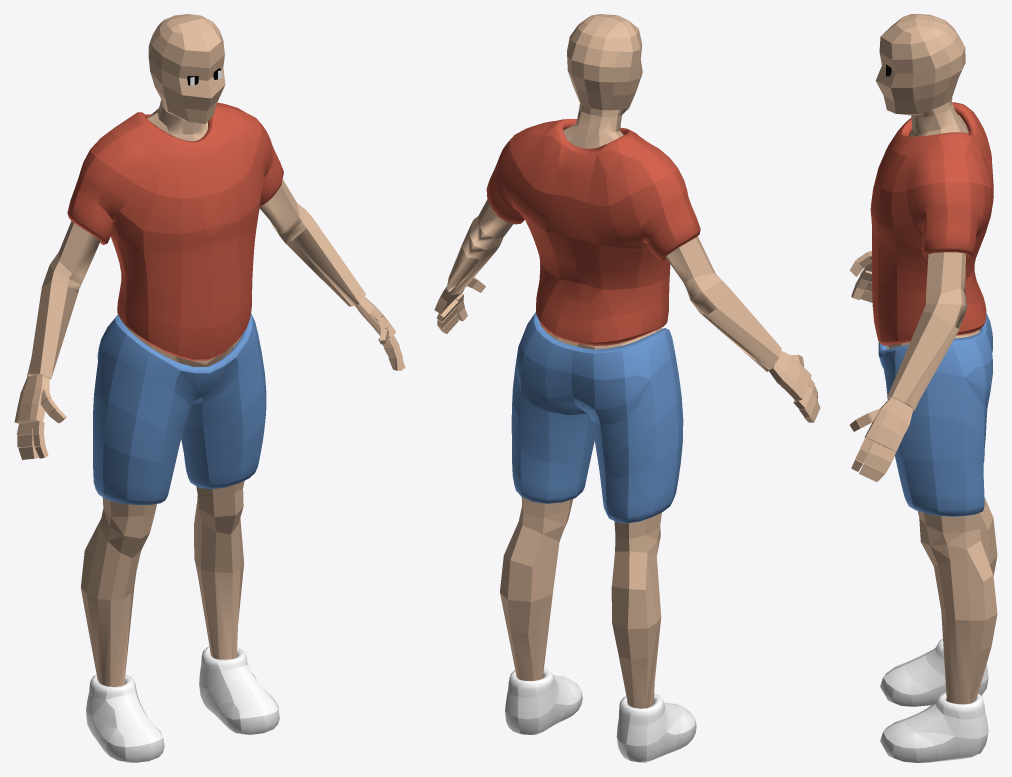
The model's file is Karakter Test  1.fbx.
3 renders of one model, left to right at view 1: azimuth 30°, elevation 25°; view 2: azimuth 150°, elevation 25°; view 3: azimuth 270°, elevation 25°, orthographic.
Visible parts, largest first — view 1: Plane.007, Plane.001, Plane.002, Plane.003; view 2: Plane.007, Plane.001, Plane.002, Plane.003; view 3: Plane.007, Plane.001, Plane.002, Plane.003.
Part boxes in pixels (x1=…): Plane.007: x1=14, y1=14, x2=405, y2=686; Plane.001: x1=67, y1=102, x2=283, y2=360; Plane.002: x1=93, y1=313, x2=266, y2=504; Plane.003: x1=86, y1=646, x2=279, y2=762; Plane.007: x1=434, y1=14, x2=820, y2=708; Plane.001: x1=486, y1=119, x2=700, y2=345; Plane.002: x1=511, y1=312, x2=683, y2=523; Plane.003: x1=505, y1=667, x2=696, y2=762; Plane.007: x1=849, y1=14, x2=997, y2=704; Plane.001: x1=870, y1=102, x2=993, y2=345; Plane.002: x1=878, y1=312, x2=992, y2=516; Plane.003: x1=880, y1=638, x2=988, y2=762.
Size of the model in its own units: 106 by 193 by 36.52.
